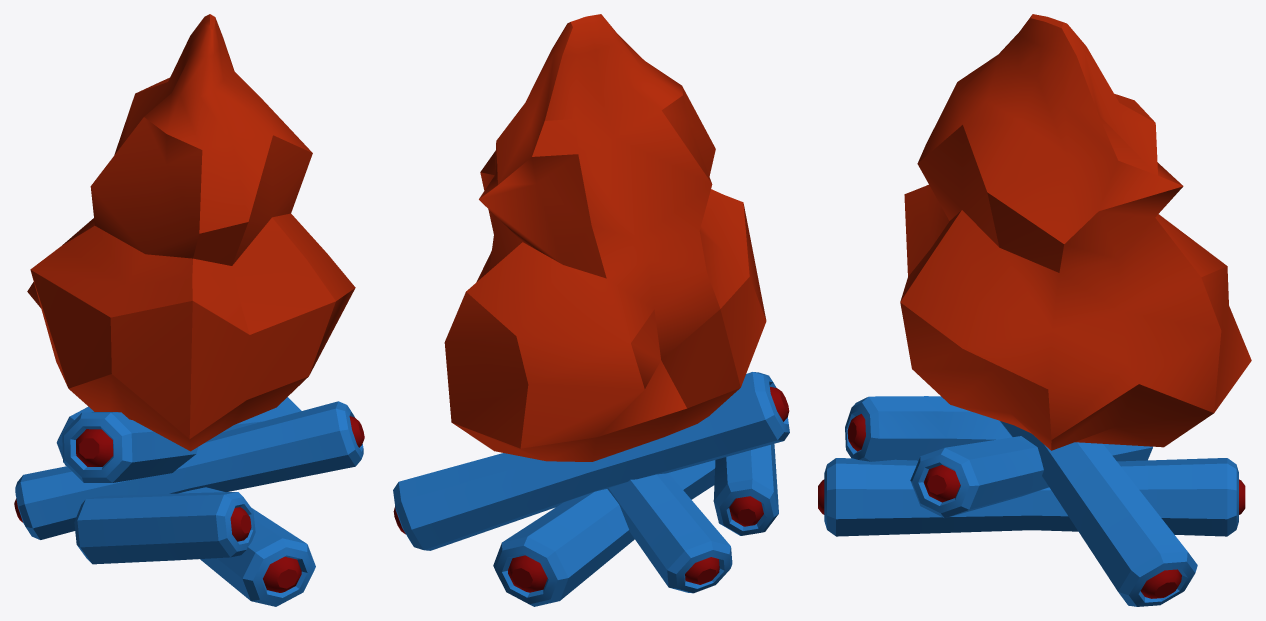
The model's file is Bonfire.FBX.
3 views of the same model, side by side, from view 1: azimuth 30°, elevation 25°; view 2: azimuth 150°, elevation 25°; view 3: azimuth 270°, elevation 25° (orthographic). The views are drawn at different scales.
Parts seen in each view (by area): view 1: Bonfire; view 2: Bonfire; view 3: Bonfire.
Part boxes in pixels (left/top/right/bottom): Bonfire: left=14, top=14, right=364, bottom=606; Bonfire: left=393, top=14, right=789, bottom=606; Bonfire: left=818, top=14, right=1251, bottom=606.
Bounding box in the file's own units: 645 × 745 × 1014.
